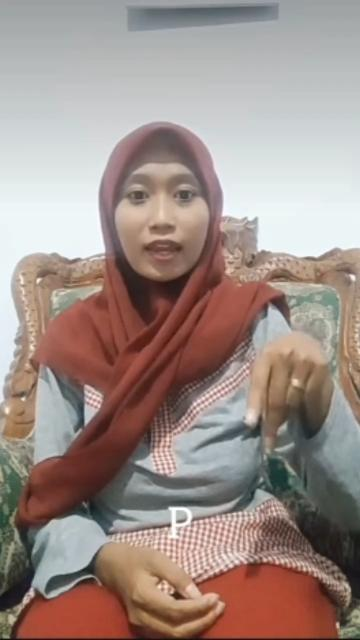Q: (241, 328, 328, 454)
